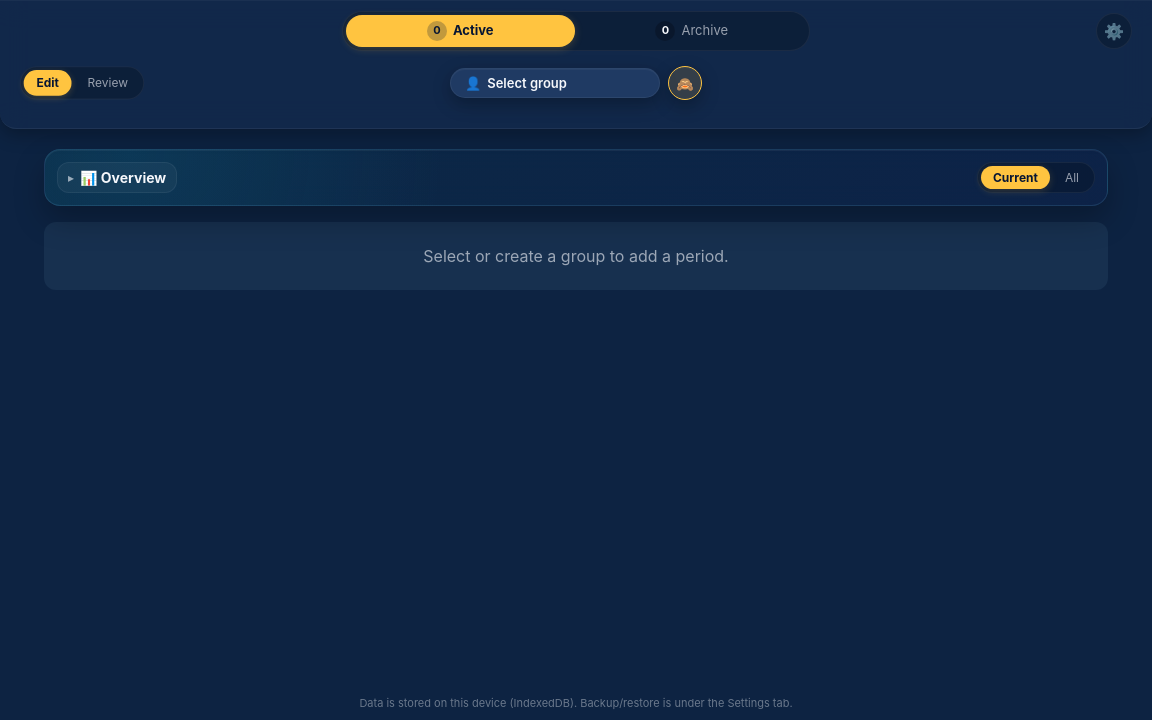
Test: Settings — defaults, currency display, destructive-action confirmation, clear data › requires typing the exact confirmation phrase before 'clear all data' is enabled
Step 1. Press the mouse on the button with test id "group-switcher-btn" → (555, 83), box [450,68,660,98]
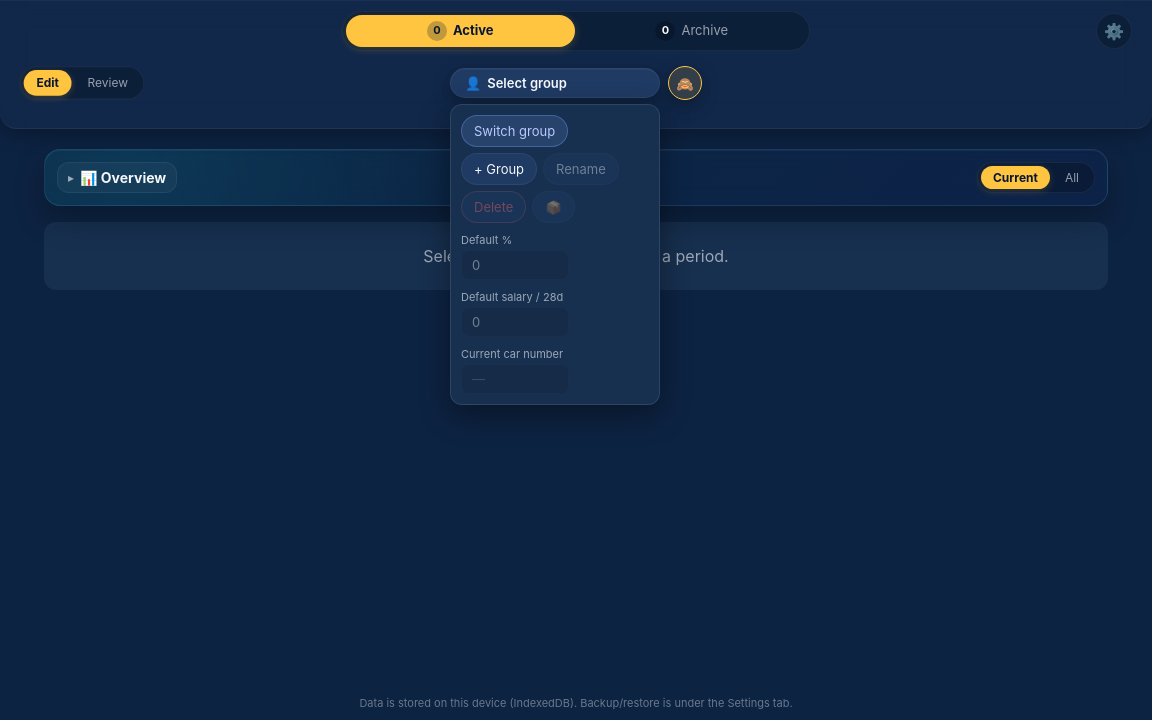
Step 2. Click the button "+ Group" → (499, 169), box [461,153,537,185]
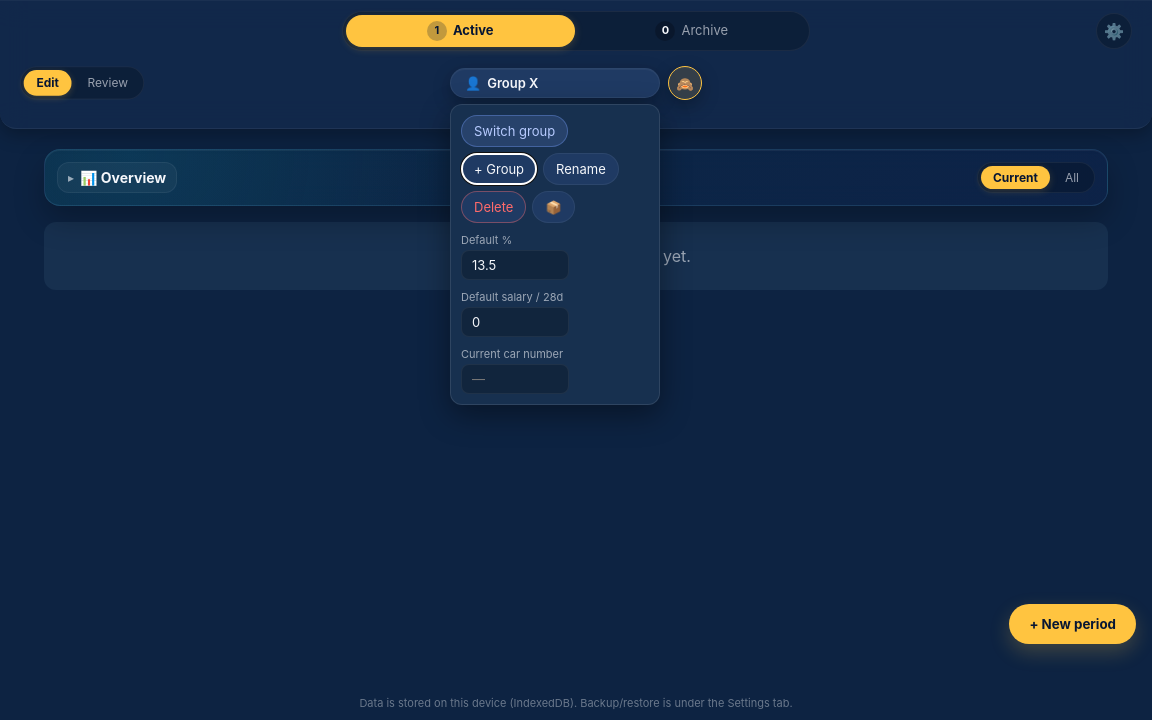
Expected: the button "👤 Group X" is shown, [450,68,660,98]
Step 3. Click the tab named "Settings" → (1114, 31), box [1096,13,1132,49]
(page scrolled)
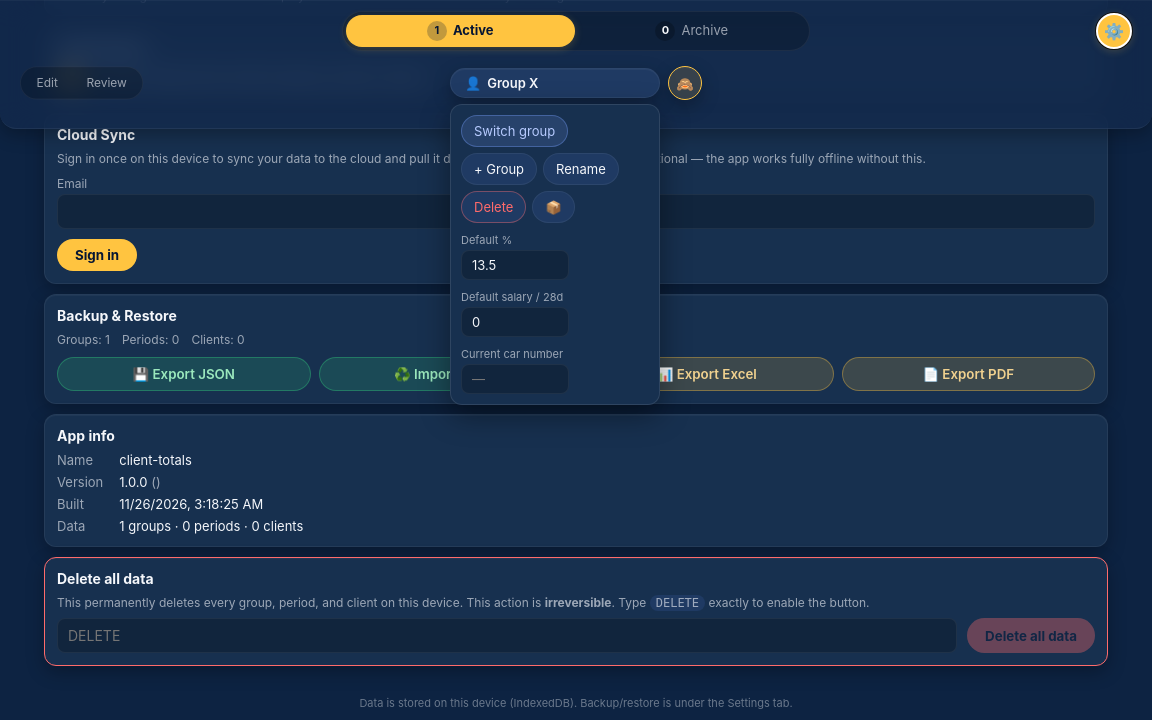
Expected: the heading "Delete all data" is shown, [57,570,154,587]
Expected: the button "Delete all data" is disabled, [967,618,1095,653]
Step 4. Type "wrong phrase" into the field with placeholder "DELETE" → (507, 636), box [57,618,957,653]
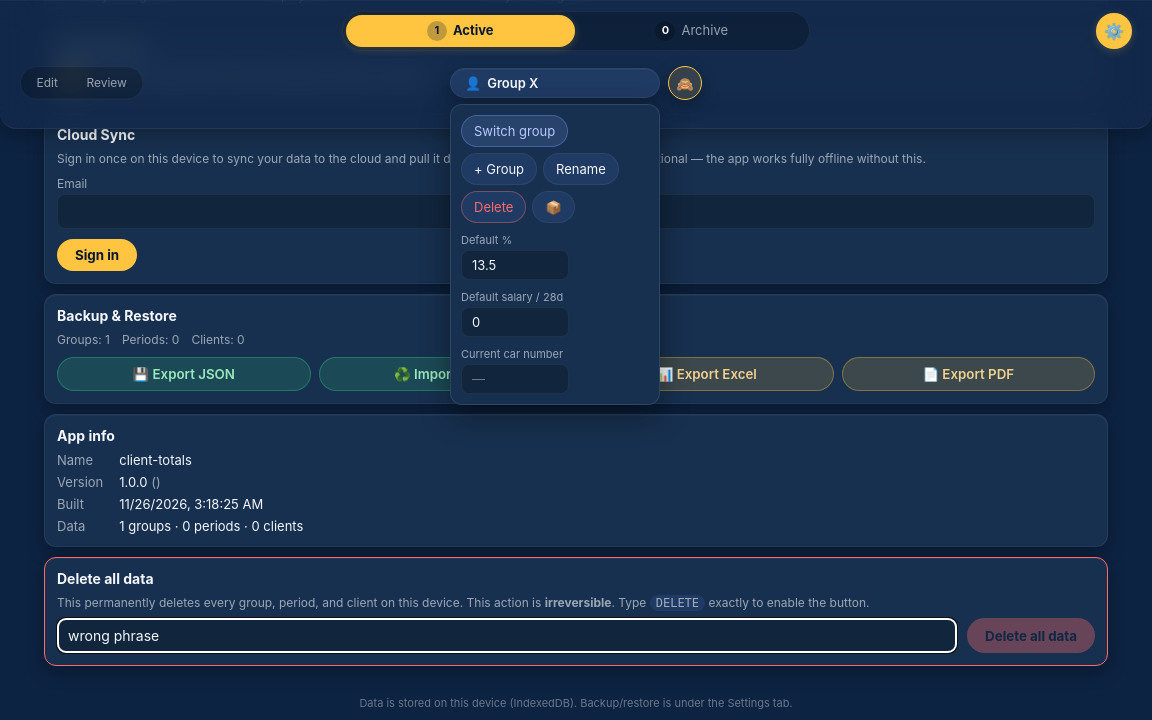
Expected: the button "Delete all data" is disabled, [967,618,1095,653]
Step 5. Replace the text in the field with placeholder "DELETE" with "DELETE" → (507, 636), box [57,618,957,653]
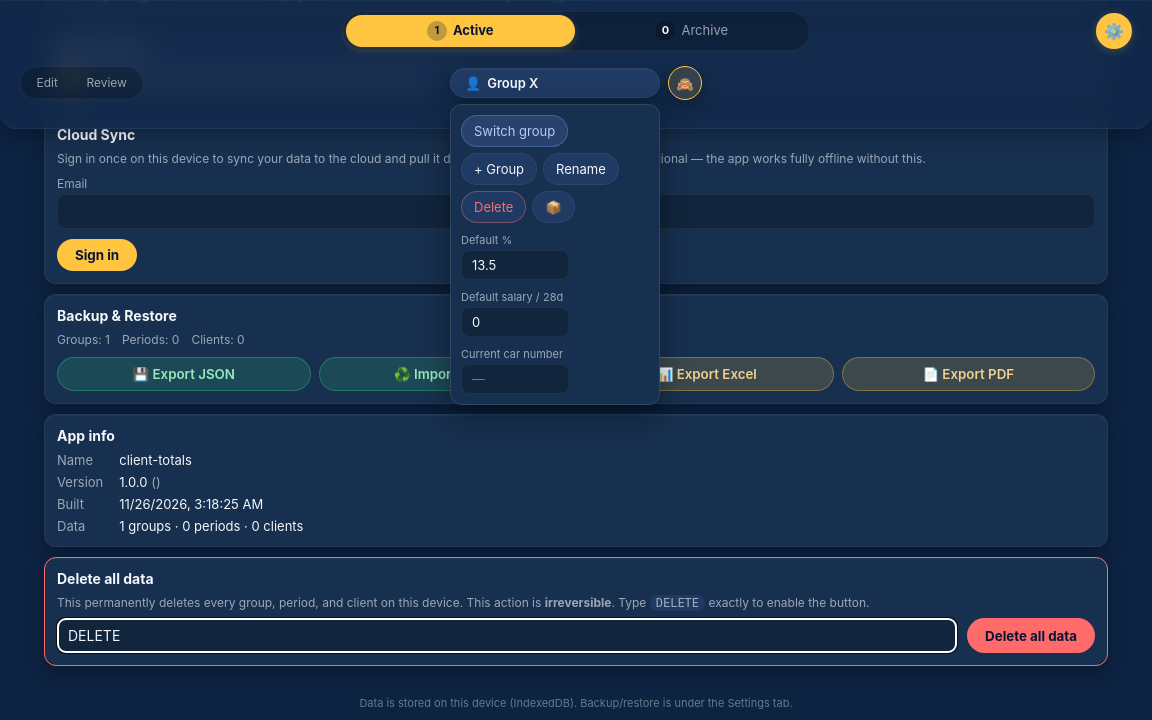
Expected: the button "Delete all data" is enabled
Step 6. Click the button "Delete all data" → (1031, 636), box [967,618,1095,653]
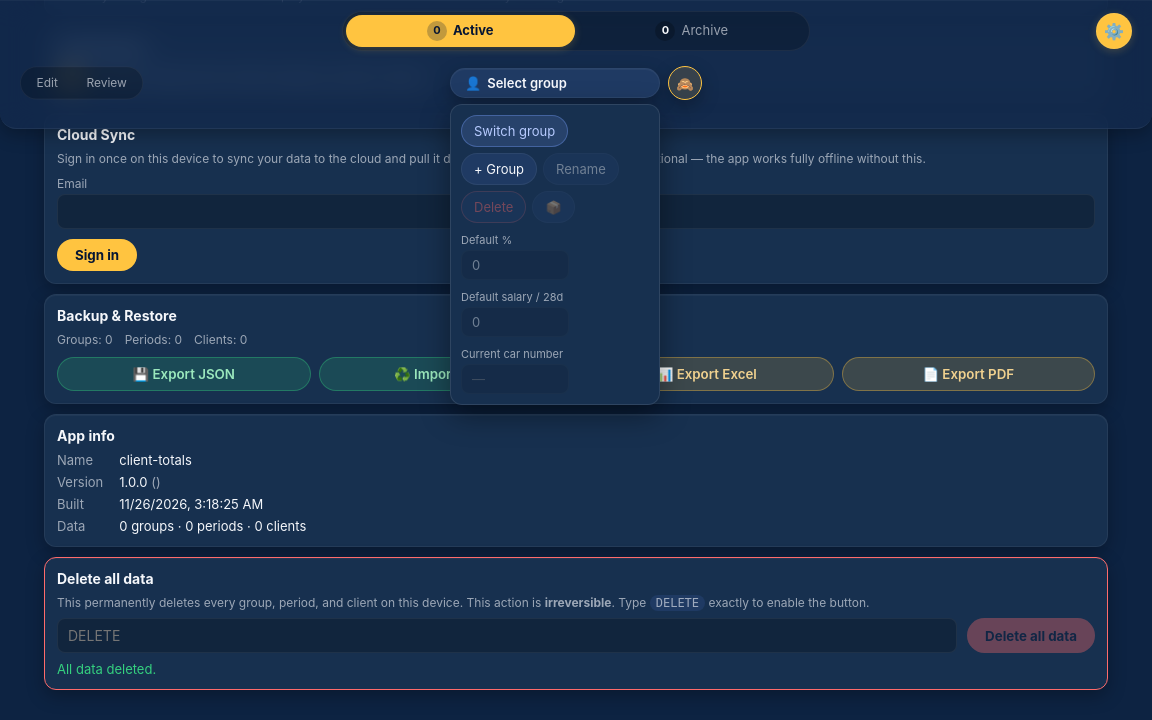
Expected: the text "All data deleted." is shown, [57,661,156,677]
